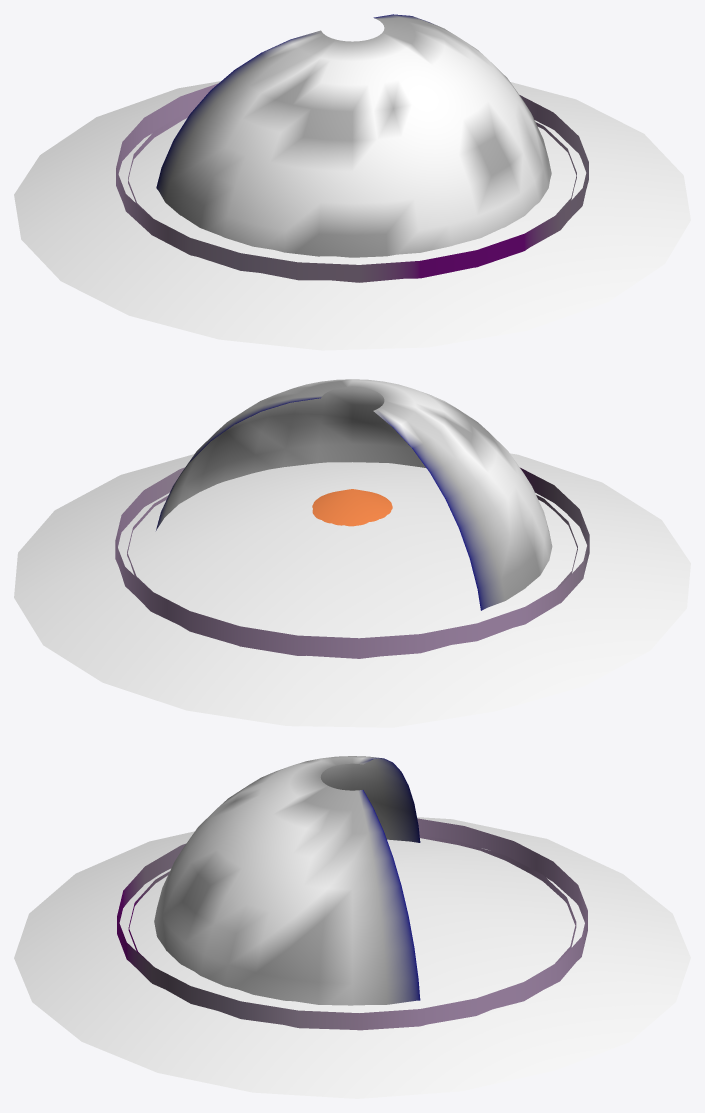
File: sky_casino_secret.glb
3 views of the same model, one above another, from view 1: azimuth 30°, elevation 25°; view 2: azimuth 150°, elevation 25°; view 3: azimuth 270°, elevation 25° (orthographic).
Visible parts, largest first — view 1: SkyMesh; view 2: SkyMesh; view 3: SkyMesh.
Part boxes in pixels (x1,y1,x2,y2): SkyMesh: (14,14,690,350); SkyMesh: (14,379,690,727); SkyMesh: (14,756,690,1098).
Bounding box in the file's own units: 299965 × 133903 × 299965.
